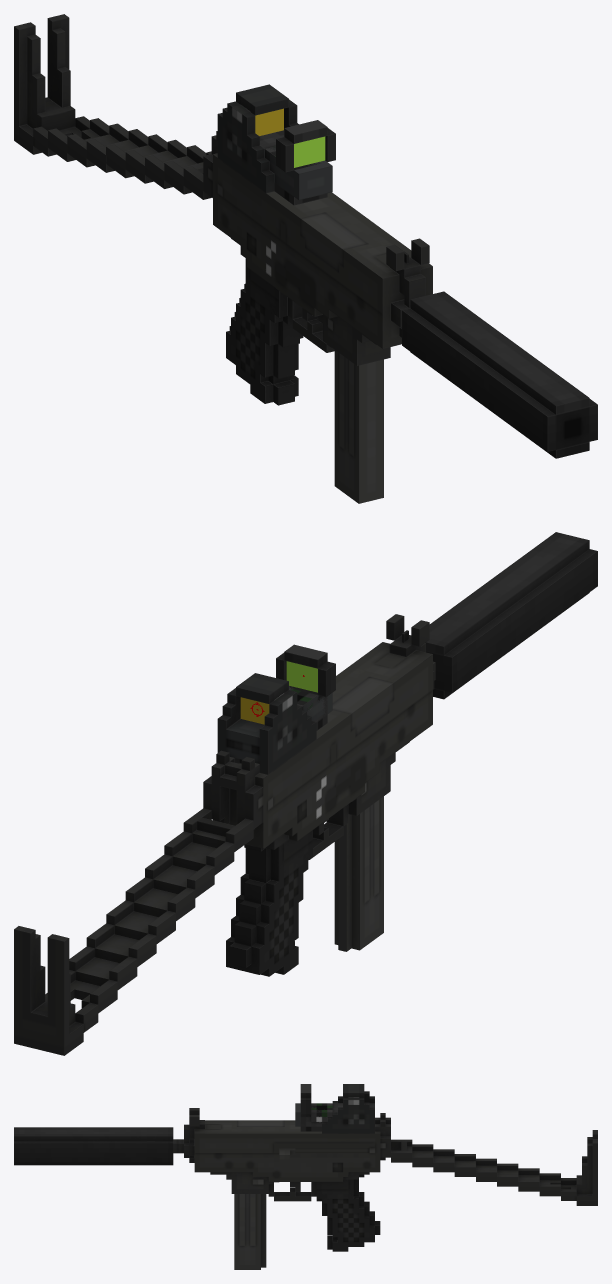
File: RD_KEDR.glb
3 renders of one model, top to bottom at view 1: azimuth 30°, elevation 25°; view 2: azimuth 150°, elevation 25°; view 3: azimuth 270°, elevation 25°, orthographic. The views are drawn at different scales.
Visible parts, largest first — view 1: PP91, SILENCER_6X6, SCOPE_EOTECH, PP91_CLIP, SCOPE_AIMPOINT; view 2: PP91, SILENCER_6X6, SCOPE_EOTECH, PP91_CLIP, SCOPE_AIMPOINT; view 3: PP91, SILENCER_6X6, PP91_CLIP, SCOPE_EOTECH, SCOPE_AIMPOINT.
Part boxes in pixels (x1,y1,x2,y2): PP91: (14,14,432,405); SILENCER_6X6: (402,291,597,458); SCOPE_EOTECH: (217,84,332,200); PP91_CLIP: (334,350,383,503); SCOPE_AIMPOINT: (259,120,335,205); PP91: (14,614,435,1055); SILENCER_6X6: (425,532,597,699); SCOPE_EOTECH: (217,673,332,774); PP91_CLIP: (334,796,383,951); SCOPE_AIMPOINT: (276,644,335,730); PP91: (173,1108,597,1251); SILENCER_6X6: (14,1127,173,1165); PP91_CLIP: (234,1194,266,1269); SCOPE_EOTECH: (295,1084,374,1133); SCOPE_AIMPOINT: (300,1084,342,1131).
Bounding box in the file's own units: 0.0886 × 0.3642 × 1.08.
6 materials, 6 textured.
